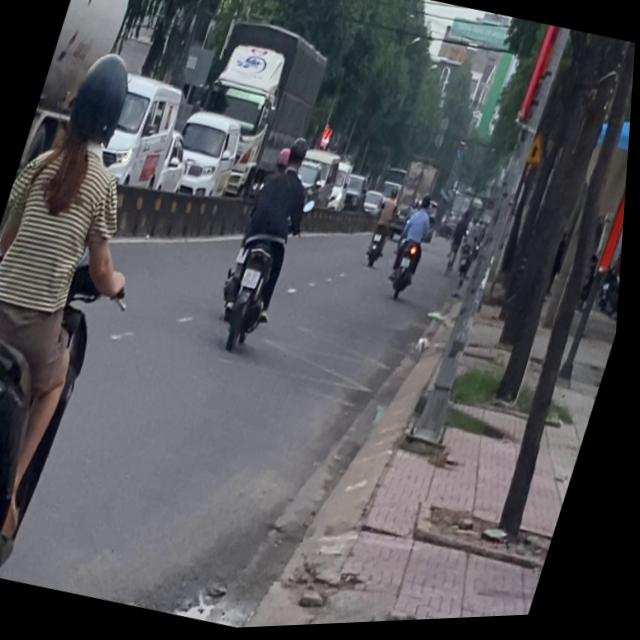helmet: (55, 43, 142, 161), (284, 134, 312, 172), (276, 146, 294, 171)
licenseplate: (0, 30, 196, 585), (207, 127, 329, 357)
nohelmet: (243, 269, 264, 290)
